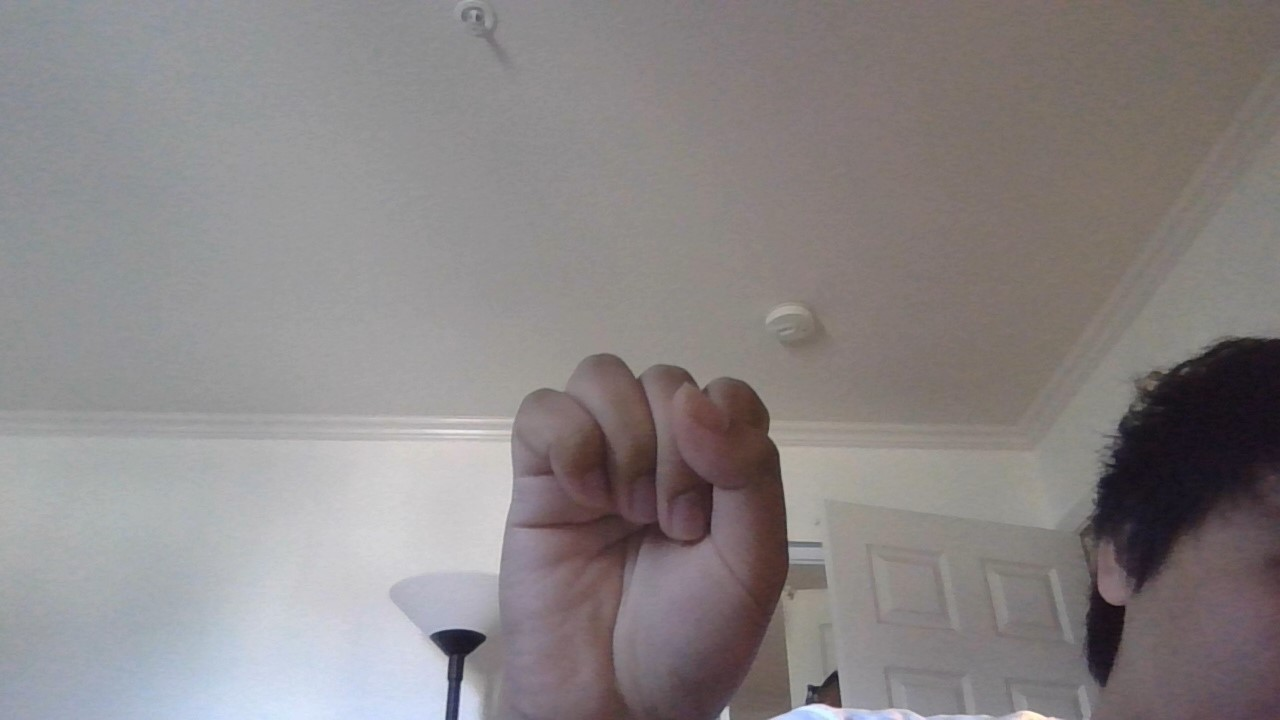s: (443, 337, 819, 720)
